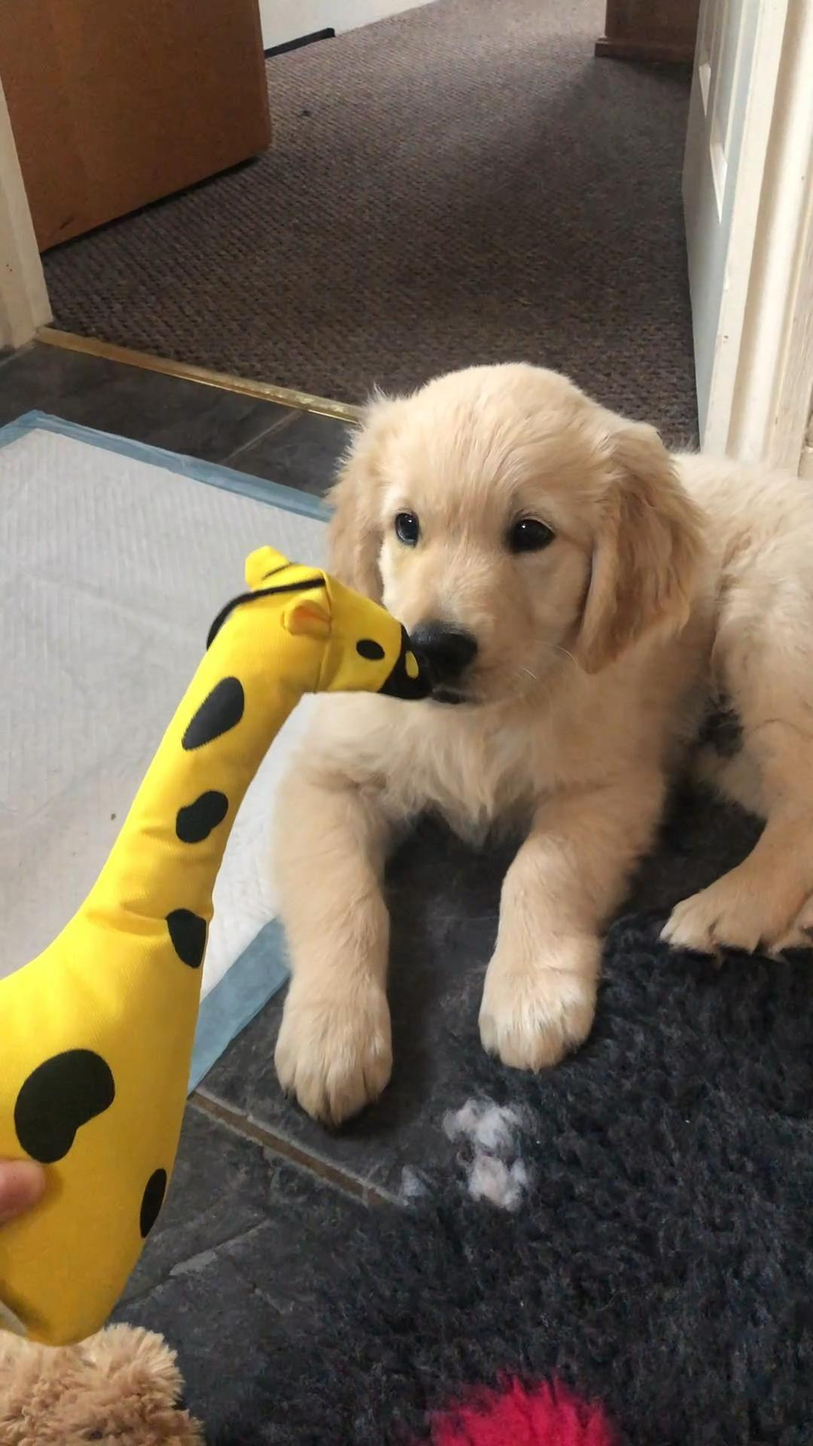puppy-dog: (260, 365, 813, 1130)
